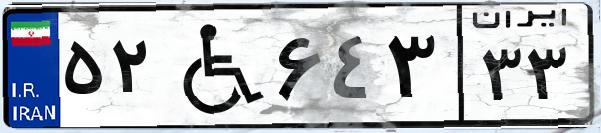2: (110, 28, 158, 98)
3: (385, 28, 445, 110), (475, 38, 525, 113), (525, 38, 570, 115)
4: (330, 28, 385, 110)
5: (57, 26, 110, 100)
6: (270, 28, 330, 110)
ژ (معلولین و جانبازان): (158, 12, 270, 120)
